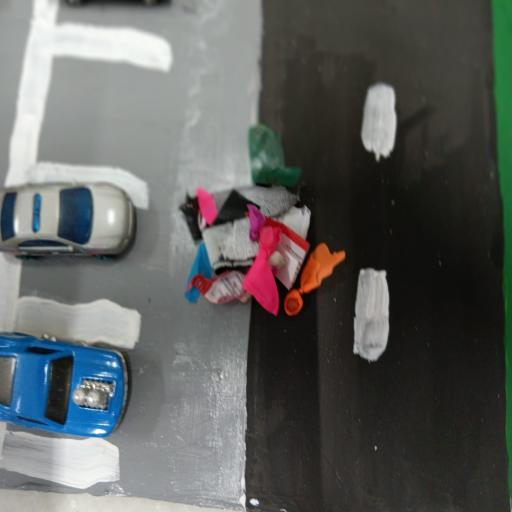trash: (177, 123, 347, 327)
